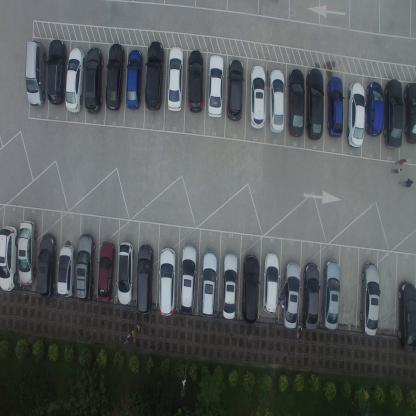car: (360, 260, 379, 338), (396, 280, 416, 354), (105, 42, 126, 112), (47, 37, 68, 106), (145, 40, 165, 112), (36, 232, 57, 300), (83, 46, 104, 113), (26, 38, 46, 108), (384, 79, 404, 149), (280, 260, 300, 330), (75, 232, 95, 302), (321, 258, 340, 330), (65, 45, 85, 113), (16, 219, 36, 286), (305, 67, 323, 141), (301, 261, 320, 331), (179, 243, 198, 313), (158, 246, 177, 316), (135, 244, 154, 314), (241, 253, 259, 325), (346, 80, 365, 148), (221, 250, 239, 321), (200, 249, 218, 317), (226, 58, 245, 122), (0, 224, 18, 291), (97, 242, 116, 305), (287, 68, 304, 138), (326, 74, 344, 139), (167, 45, 184, 112), (249, 63, 266, 130), (126, 48, 144, 111), (207, 54, 224, 120), (364, 80, 384, 136), (262, 252, 280, 314), (117, 242, 134, 306), (188, 48, 204, 114), (268, 68, 284, 134), (56, 243, 75, 297), (404, 82, 416, 146)
